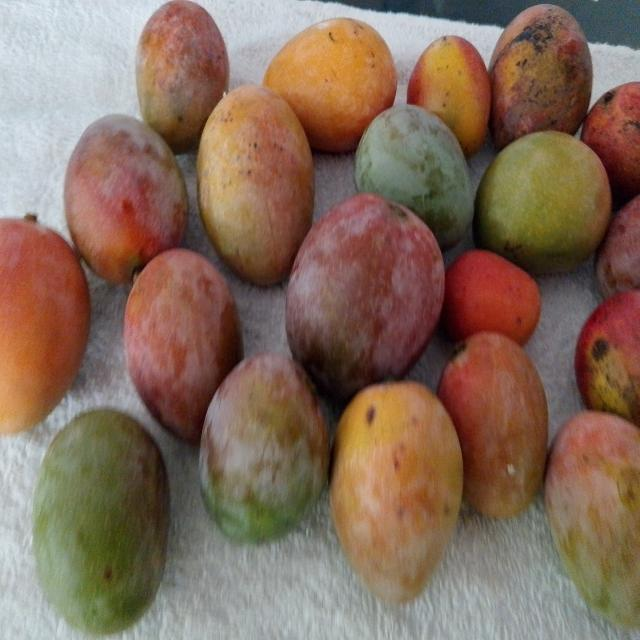mango: (286, 192, 446, 392), (33, 409, 169, 634), (330, 382, 462, 604), (123, 244, 245, 445), (200, 352, 329, 542), (197, 85, 314, 285), (64, 109, 189, 286), (0, 206, 92, 438), (443, 328, 550, 524), (545, 411, 639, 628), (473, 131, 611, 273), (264, 18, 397, 152), (355, 105, 473, 249), (489, 4, 592, 149), (136, 0, 229, 152), (407, 36, 490, 157), (575, 290, 639, 426), (581, 82, 639, 205)
